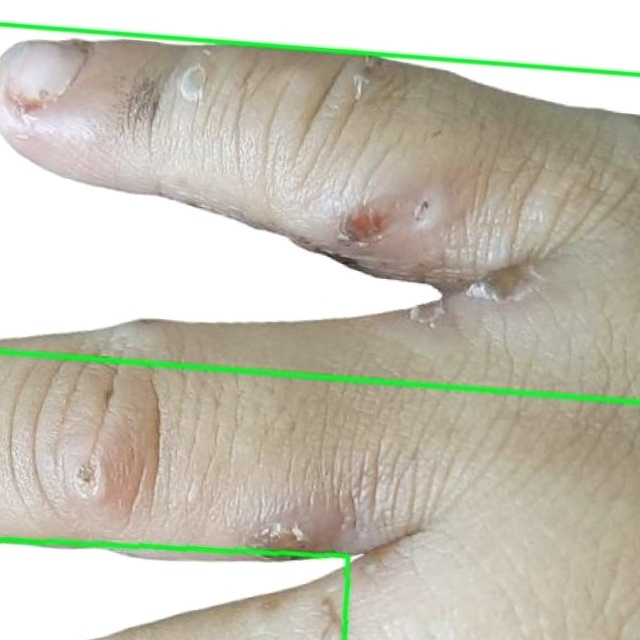Scabies: (0, 24, 639, 639), (0, 0, 639, 401), (0, 539, 348, 639)
